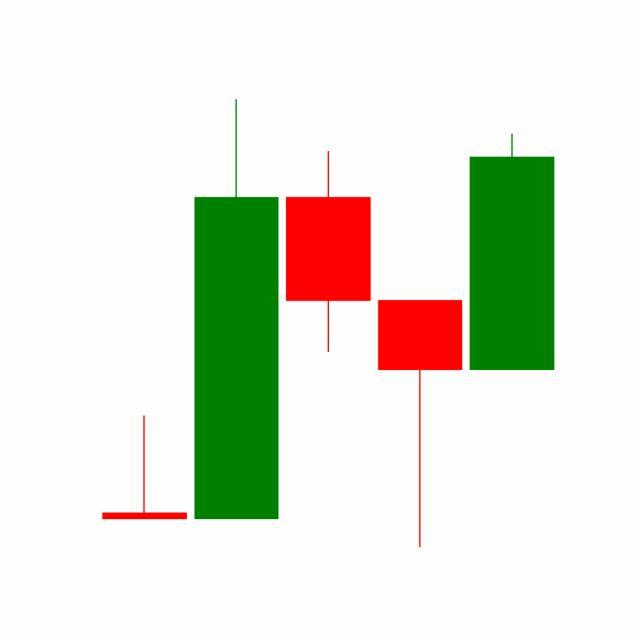Hammer: (374, 298, 468, 551)
